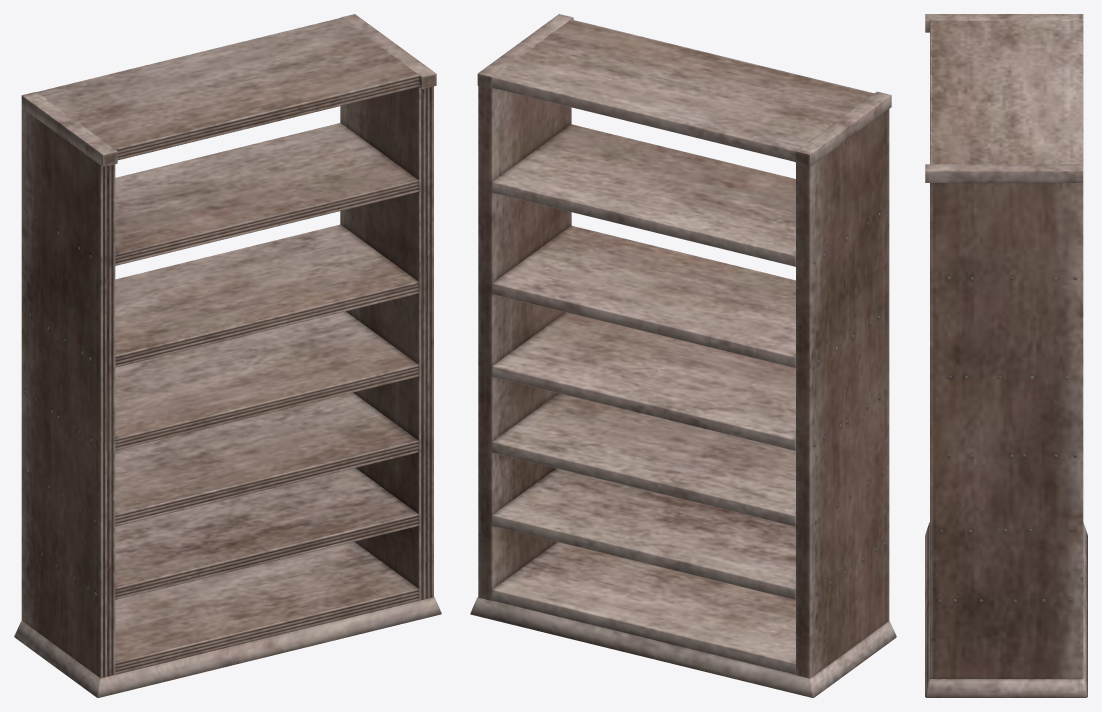
The model's file is wooden_bookshelf_worn.glb.
3 renders of one model, left to right at view 1: azimuth 30°, elevation 25°; view 2: azimuth 150°, elevation 25°; view 3: azimuth 270°, elevation 25°, orthographic. The views are drawn at different scales.
Parts seen in each view (by area): view 1: wooden_bookshelf_worn; view 2: wooden_bookshelf_worn; view 3: wooden_bookshelf_worn.
Boxes of the visible parts, x1,y1,x2,y2 form: wooden_bookshelf_worn: (14,14,441,697); wooden_bookshelf_worn: (470,14,896,697); wooden_bookshelf_worn: (925,14,1087,697).
Size of the model in its own units: 1.37 by 2.06 by 0.5814.
1 material, 1 textured.
